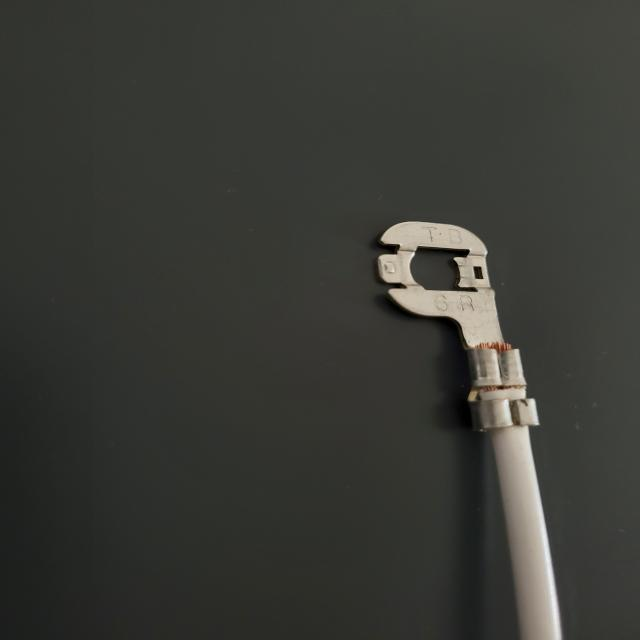good: (2, 0, 634, 640)
